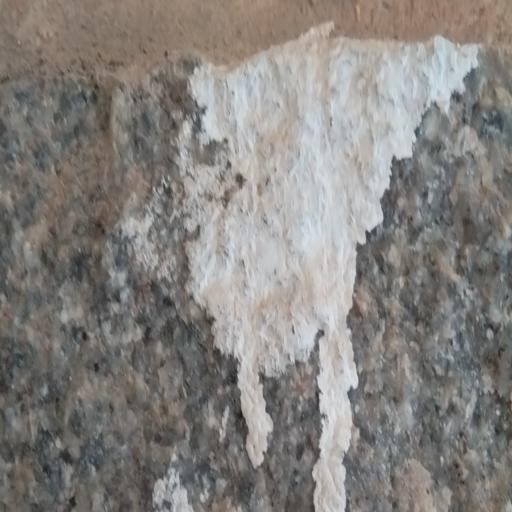stain: (157, 3, 478, 512)
